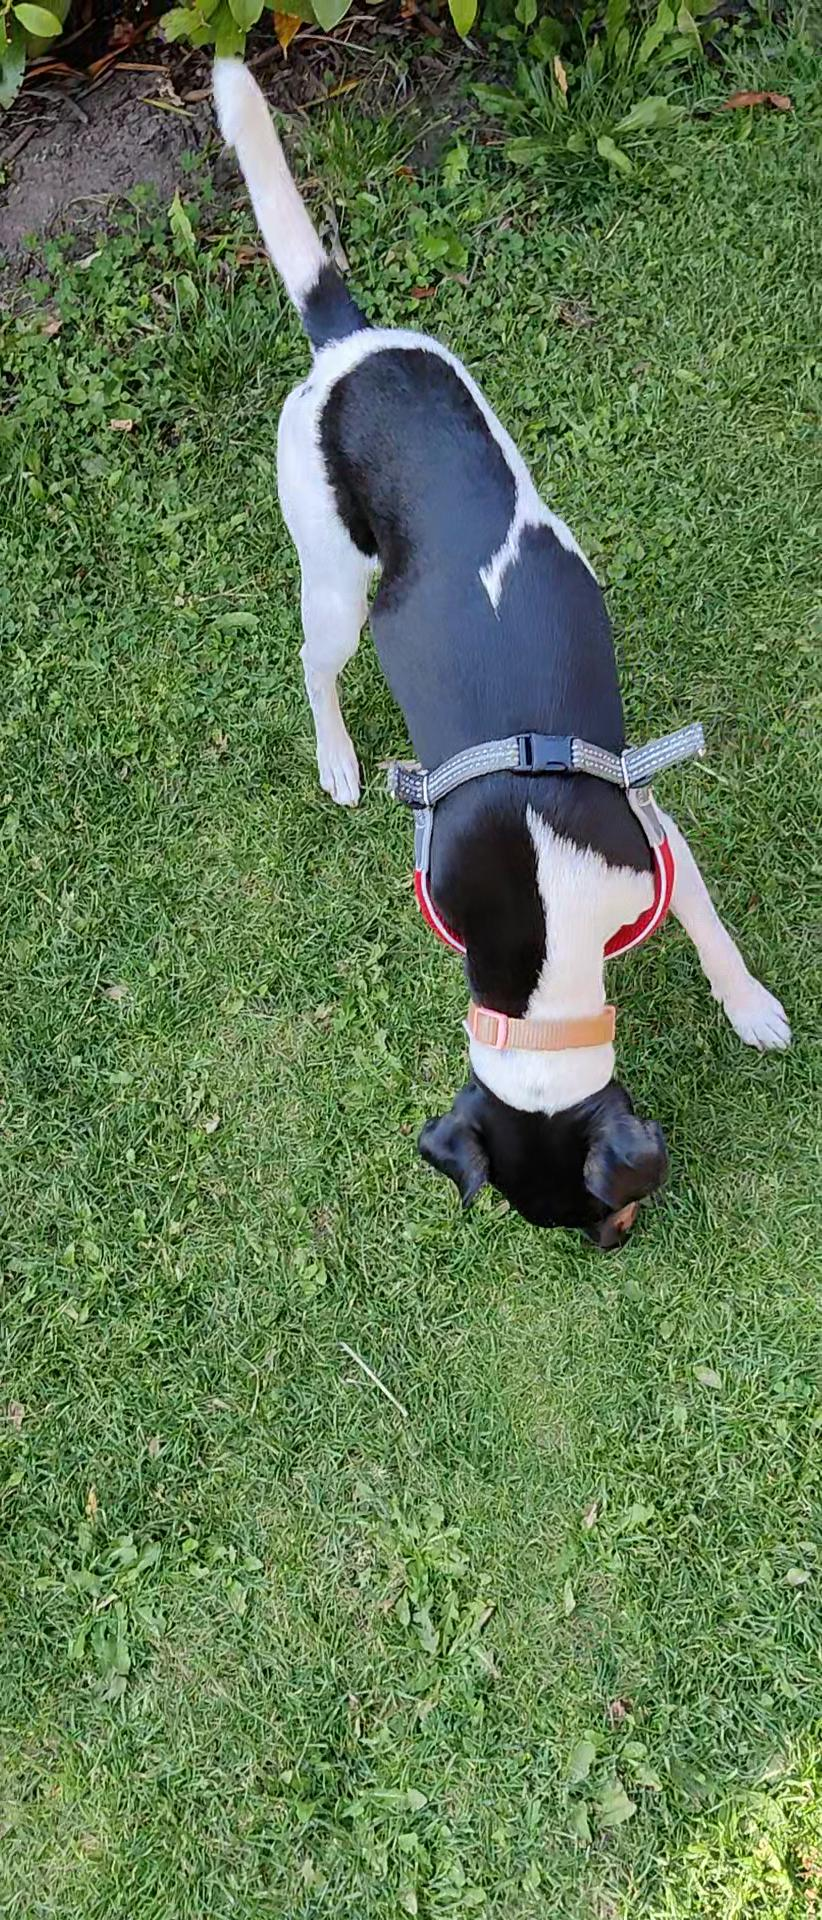Dog: (200, 50, 796, 1254)
